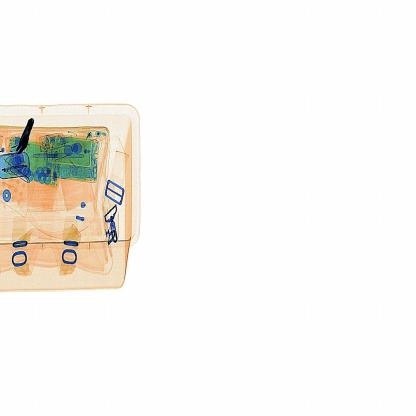knife: (15, 112, 40, 160)
